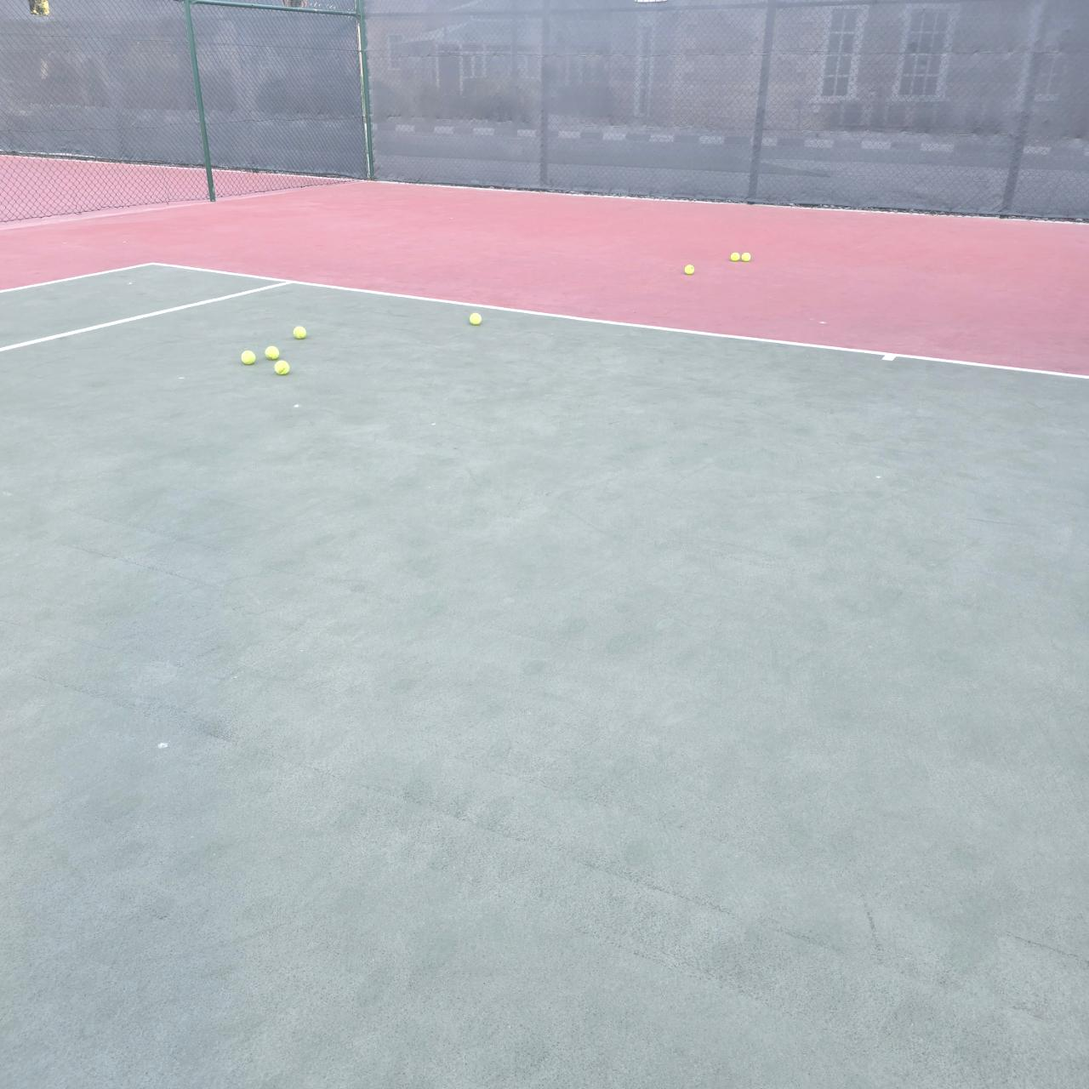tennis-ball: (274, 360, 290, 375), (241, 350, 256, 365), (265, 345, 279, 359), (292, 326, 307, 339), (469, 312, 482, 325), (684, 264, 694, 274), (741, 252, 751, 262), (731, 252, 740, 262)
